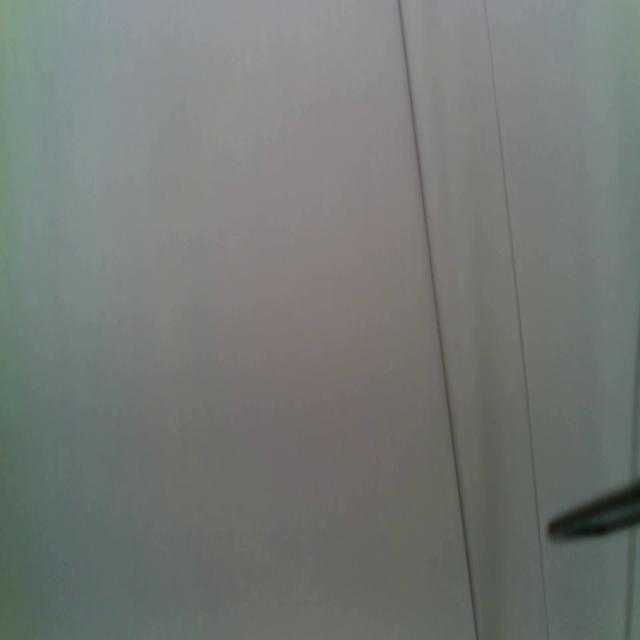crease: (397, 1, 480, 640), (483, 1, 550, 640)
